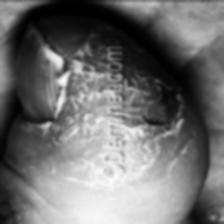Non-Cancerous Skin Condition: (38, 36, 96, 175), (130, 58, 196, 164)
